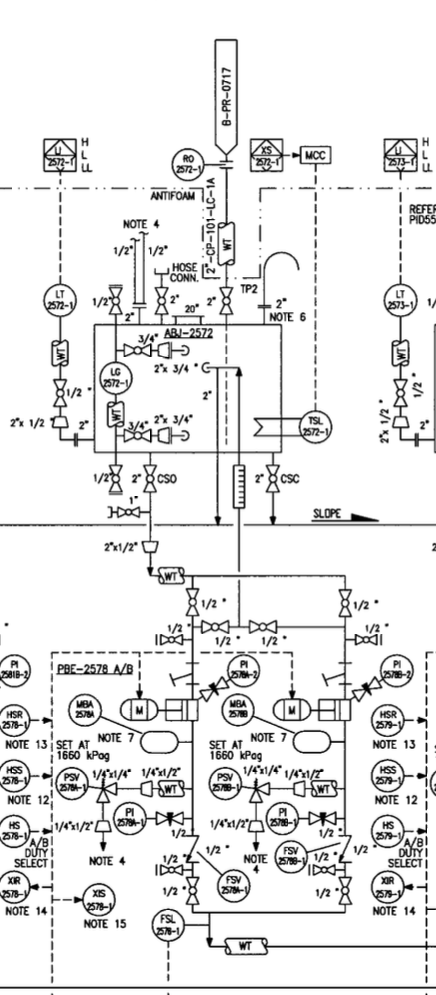Instrument: (374, 648, 420, 690), (202, 763, 247, 802), (211, 864, 252, 904), (365, 756, 405, 796), (220, 652, 261, 690), (149, 901, 185, 944), (296, 409, 335, 448), (365, 699, 404, 737), (170, 146, 209, 184), (366, 868, 406, 905), (1, 756, 37, 797), (266, 794, 300, 837), (1, 869, 37, 909), (97, 362, 137, 398), (365, 811, 403, 848), (78, 879, 116, 916), (381, 280, 419, 317), (54, 761, 90, 800), (112, 800, 149, 837), (1, 811, 35, 851), (220, 693, 257, 728), (68, 692, 105, 727), (274, 839, 308, 876), (1, 703, 33, 742), (1, 652, 33, 691), (44, 282, 76, 319)
Instrument-square: (38, 128, 83, 178), (378, 133, 422, 179), (245, 131, 287, 176)
